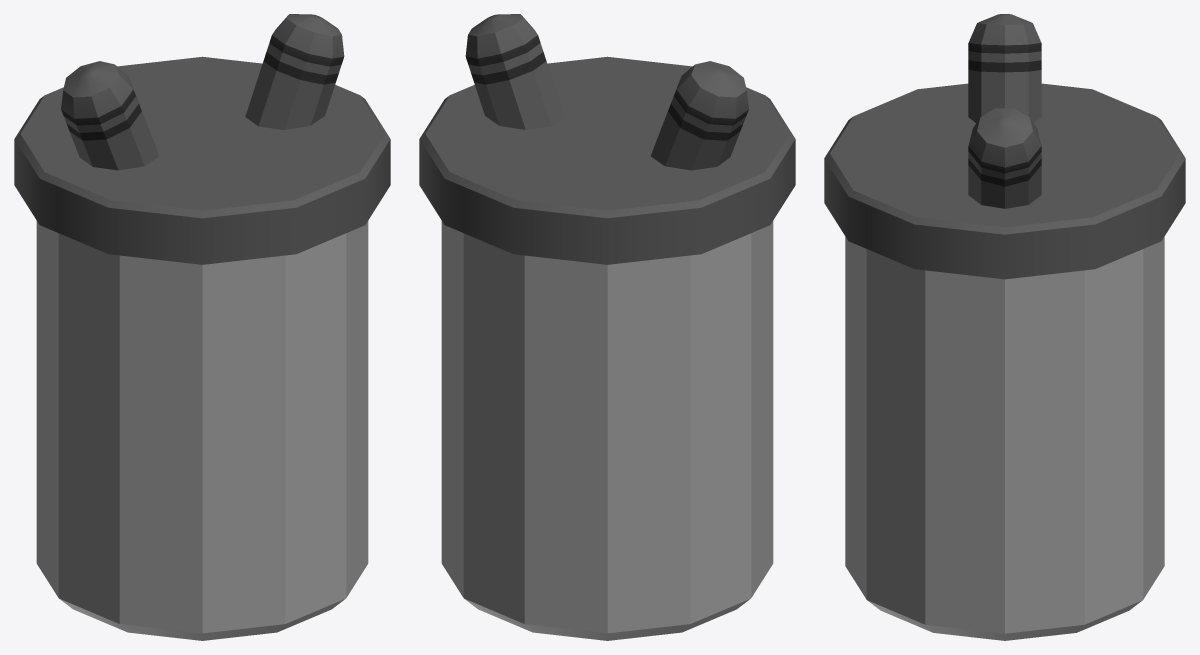
File: EyesJar_02.fbx
3 renders of one model, left to right at view 1: azimuth 30°, elevation 25°; view 2: azimuth 150°, elevation 25°; view 3: azimuth 270°, elevation 25°, orthographic. The views are drawn at different scales.
Parts seen in each view (by area): view 1: EyesJar_01; view 2: EyesJar_01; view 3: EyesJar_01.
Boxes of the visible parts, x1=… form: EyesJar_01: x1=14, y1=14, x2=390, y2=640; EyesJar_01: x1=419, y1=14, x2=795, y2=640; EyesJar_01: x1=824, y1=14, x2=1185, y2=640.
Size of the model in its own units: 173 by 272 by 173.
